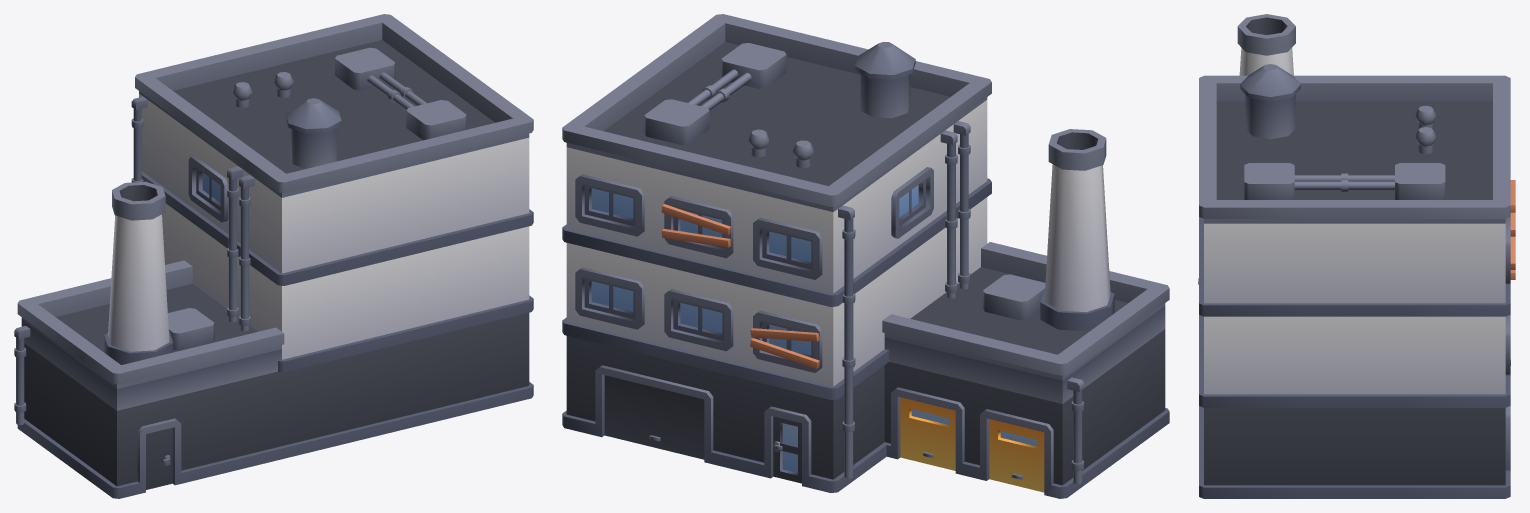
The model's file is building-b.fbx.
3 views of the same model, side by side, from view 1: azimuth 30°, elevation 25°; view 2: azimuth 150°, elevation 25°; view 3: azimuth 270°, elevation 25° (orthographic). The views are drawn at different scales.
Visible parts, largest first — view 1: building-b; view 2: building-b; view 3: building-b.
Boxes of the visible parts, x1,y1,x2,y2 form: building-b: (14,14,533,498); building-b: (562,14,1169,498); building-b: (1198,14,1515,498).
Size of the model in its own units: 208 by 147 by 126.
Materials: 1 (1 with a texture image).
